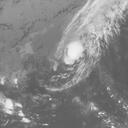cyclone: (59, 34, 88, 69)
